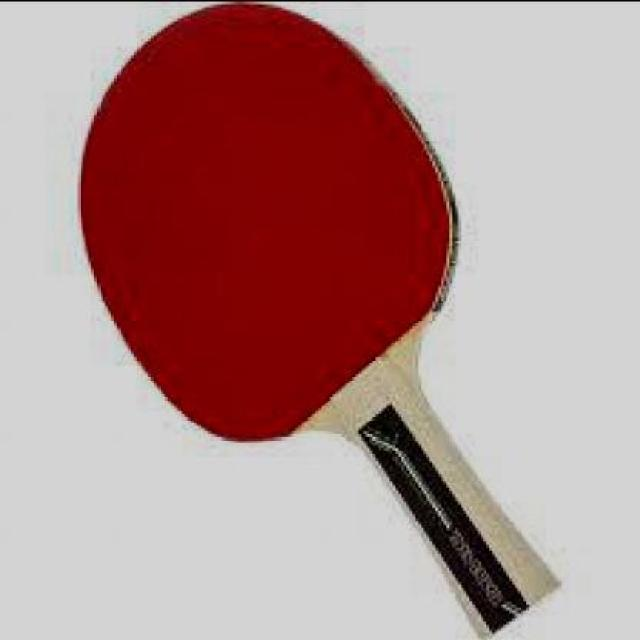table_tennis_racket: (76, 2, 461, 449)
